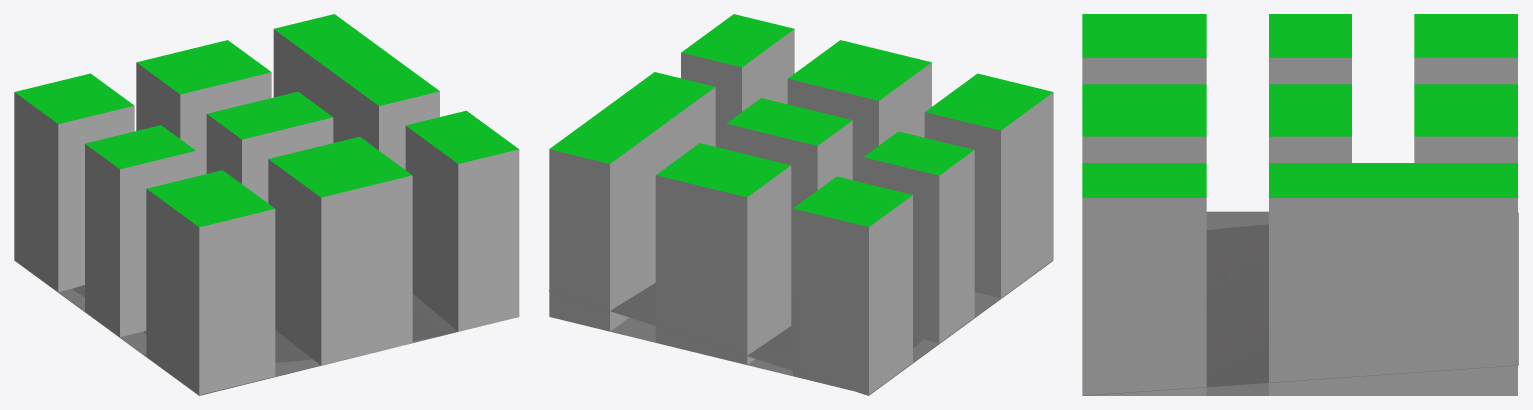
The model's file is city_mvp.dae.
3 renders of one model, left to right at view 1: azimuth 30°, elevation 25°; view 2: azimuth 150°, elevation 25°; view 3: azimuth 270°, elevation 25°, orthographic. The views are drawn at different scales.
Parts seen in each view (by area): view 1: Plane_001; view 2: Plane_001; view 3: Plane_001.
Boxes of the visible parts, <box> form: Plane_001: <box>14,14,519,395</box>; Plane_001: <box>548,14,1053,395</box>; Plane_001: <box>1082,14,1518,395</box>.
Size of the model in its own units: 100 by 100 by 50.27.
